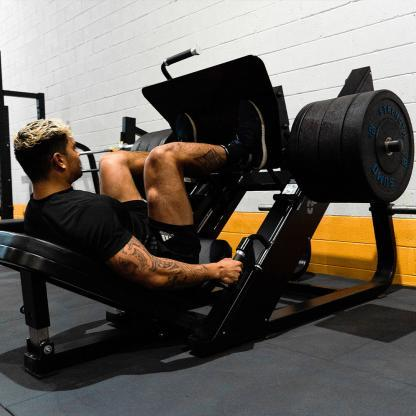leg press: (0, 37, 416, 385)
